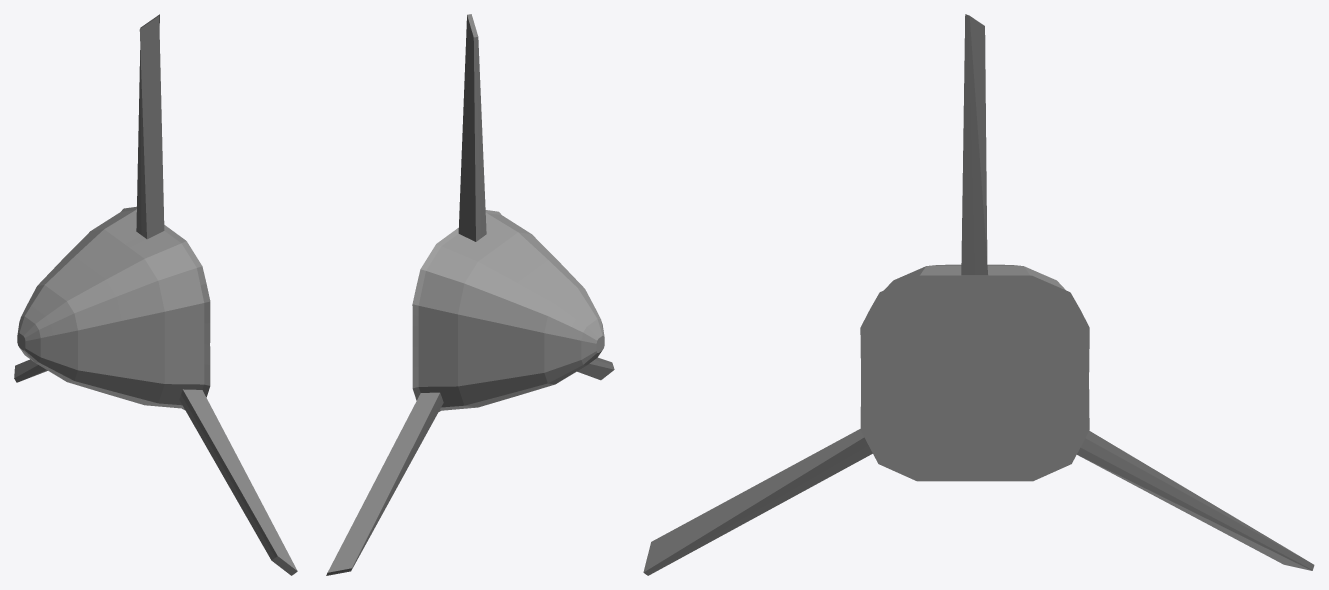
The model's file is Drones_1.fbx.
3 views of the same model, side by side, from view 1: azimuth 30°, elevation 25°; view 2: azimuth 150°, elevation 25°; view 3: azimuth 270°, elevation 25° (orthographic). The views are drawn at different scales.
Parts seen in each view (by area): view 1: Cube.001; view 2: Cube.001; view 3: Cube.001.
Boxes of the visible parts, x1,y1,x2,y2 form: Cube.001: (14,14,297,575); Cube.001: (326,14,614,575); Cube.001: (643,14,1314,575).
Bounding box in the file's own units: 90.78 × 285 × 308.
